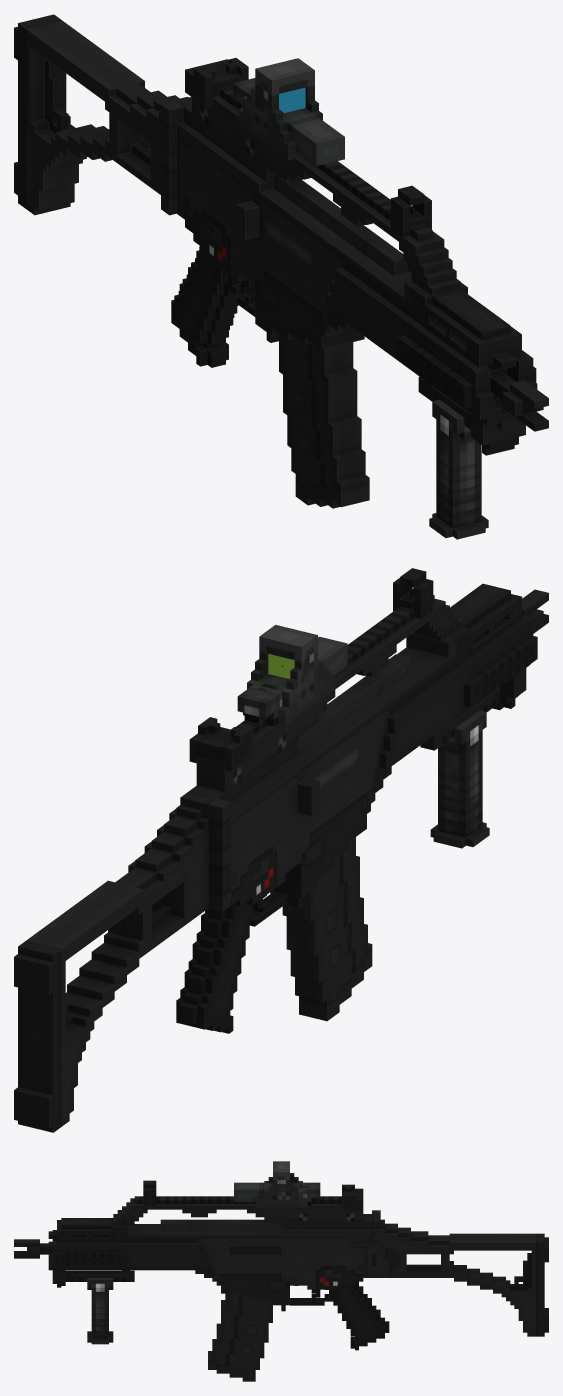
The picture shows the model from 3 angles, top to bottom: view 1: azimuth 30°, elevation 25°; view 2: azimuth 150°, elevation 25°; view 3: azimuth 270°, elevation 25°; orthographic projection. The views are drawn at different scales.
Parts seen in each view (by area): view 1: G36C, G36C_CLIP, GRIP1, SCOPE_EOTECH, G36C_SCOPE, G36C_BOLT, SCOPE_HOLOSUN; view 2: G36C, G36C_CLIP, GRIP1, G36C_SCOPE, SCOPE_HOLOSUN, G36C_BOLT, SCOPE_AIMPOINT, SCOPE_EOTECH; view 3: G36C, G36C_CLIP, SCOPE_EOTECH, G36C_BOLT, GRIP1, G36C_SCOPE, SCOPE_HOLOSUN, SCOPE_AIMPOINT.
Boxes of the visible parts, x1=… form: G36C: x1=14, y1=14, x2=548, y2=455; G36C_CLIP: x1=279, y1=334, x2=369, y2=508; GRIP1: x1=429, y1=399, x2=488, y2=539; SCOPE_EOTECH: x1=247, y1=79, x2=344, y2=166; G36C_SCOPE: x1=185, y1=58, x2=431, y2=237; G36C_BOLT: x1=273, y1=173, x2=408, y2=275; SCOPE_HOLOSUN: x1=238, y1=58, x2=314, y2=147; G36C: x1=14, y1=583, x2=548, y2=1132; G36C_CLIP: x1=282, y1=837, x2=372, y2=1021; GRIP1: x1=430, y1=710, x2=489, y2=848; G36C_SCOPE: x1=189, y1=568, x2=433, y2=771; SCOPE_HOLOSUN: x1=243, y1=624, x2=317, y2=725; G36C_BOLT: x1=298, y1=654, x2=409, y2=753; SCOPE_AIMPOINT: x1=237, y1=646, x2=309, y2=726; SCOPE_EOTECH: x1=251, y1=636, x2=347, y2=701; G36C: x1=14, y1=1196, x2=548, y2=1350; G36C_CLIP: x1=208, y1=1293, x2=272, y2=1381; SCOPE_EOTECH: x1=234, y1=1173, x2=298, y2=1207; G36C_BOLT: x1=160, y1=1219, x2=285, y2=1231; GRIP1: x1=87, y1=1278, x2=113, y2=1344; G36C_SCOPE: x1=143, y1=1180, x2=363, y2=1211; SCOPE_HOLOSUN: x1=273, y1=1161, x2=307, y2=1207; SCOPE_AIMPOINT: x1=282, y1=1180, x2=320, y2=1205.
Size of the model in its own units: 0.0984 by 0.5314 by 1.22.
Materials: 8 (8 with a texture image).
